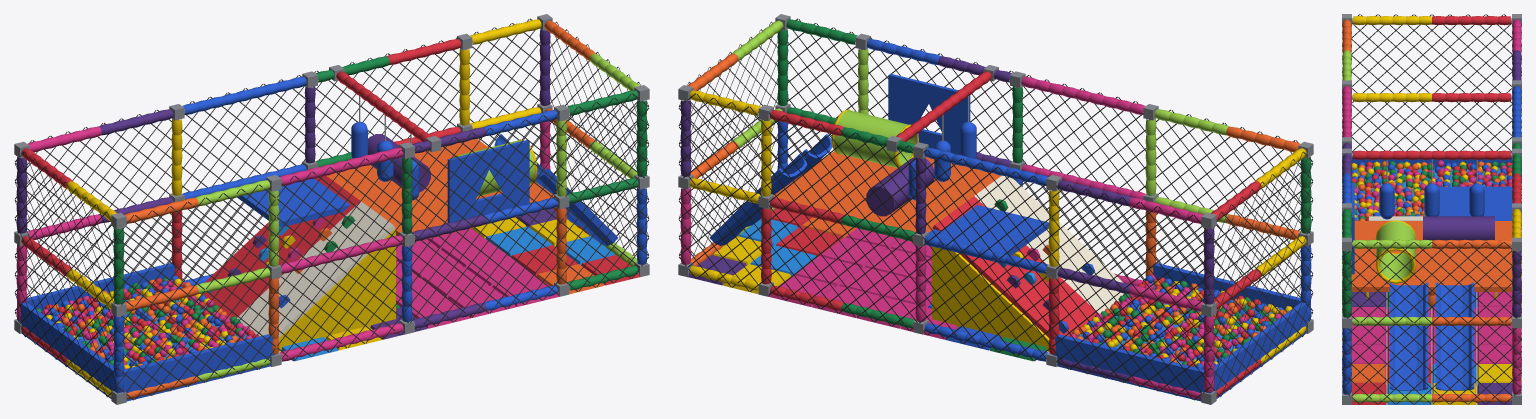
The picture shows the model from 3 angles, left to right: view 1: azimuth 30°, elevation 25°; view 2: azimuth 150°, elevation 25°; view 3: azimuth 270°, elevation 25°; orthographic projection. The views are drawn at different scales.
Visible parts, largest first — view 1: isotubo, rede, plataforma, piso, acolchoado, bolinhas, metal, plastico; view 2: isotubo, rede, plataforma, piso, acolchoado, bolinhas, metal, plastico; view 3: isotubo, rede, plataforma, piso, plastico, acolchoado, bolinhas, metal.
Part boxes in pixels (box(x1,y1,x2,y2)): isotubo: box(16, 19, 647, 399); rede: box(14, 18, 649, 400); plataforma: box(201, 139, 556, 351); piso: box(281, 208, 639, 361); acolchoado: box(17, 121, 537, 401); bolinhas: box(36, 275, 259, 369); metal: box(14, 14, 649, 404); plastico: box(207, 134, 618, 308); isotubo: box(680, 19, 1311, 399); rede: box(678, 18, 1313, 400); plataforma: box(771, 73, 1123, 351); piso: box(688, 208, 1046, 361); acolchoado: box(831, 109, 1310, 401); bolinhas: box(1069, 274, 1292, 368); metal: box(678, 14, 1313, 404); plastico: box(709, 134, 1094, 333); isotubo: box(1342, 16, 1521, 402); rede: box(1342, 14, 1521, 404); plataforma: box(1351, 183, 1512, 298); piso: box(1342, 292, 1521, 404); plastico: box(1389, 211, 1474, 390); acolchoado: box(1352, 151, 1511, 283); bolinhas: box(1351, 160, 1512, 220); metal: box(1342, 14, 1521, 404).
Bounding box in the file's own units: 6 × 2 × 2.
Materials: 8 (7 with a texture image).
